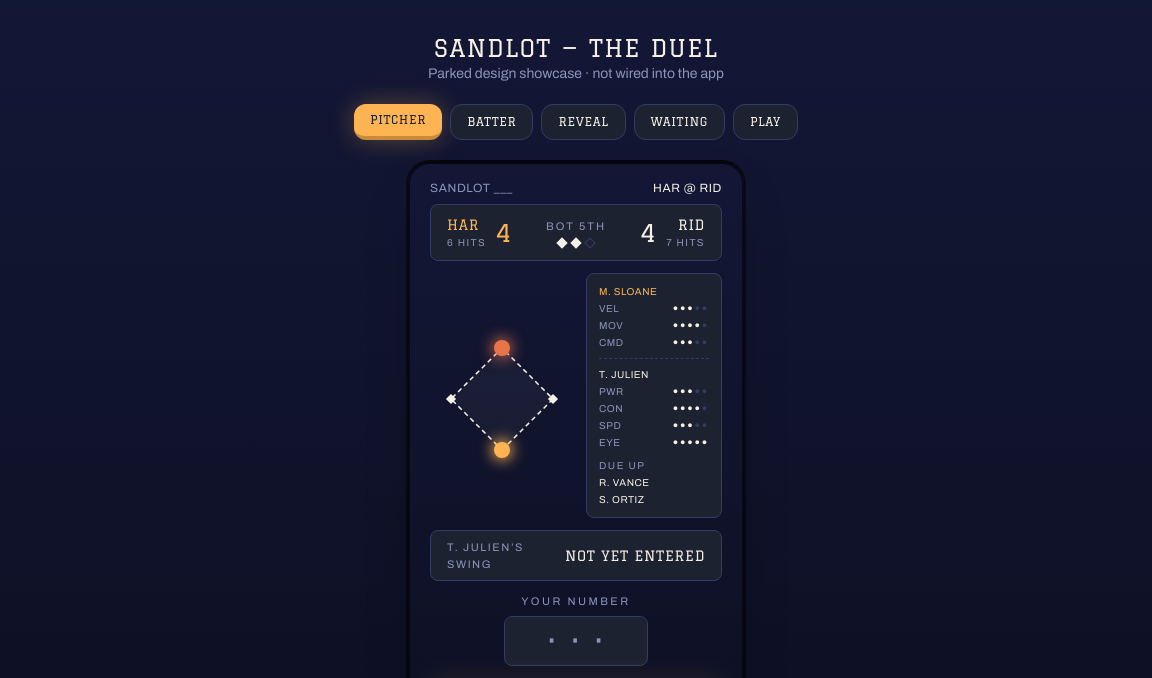
Test: DesignShowcase › shows both numbers, the outcome, and the situational callout on the reveal
What coordinates should you click on to do the following:
click the button "REVEAL"
I would click on:
 (584, 122)
Its box is [542,104,626,140].
(page scrolled)
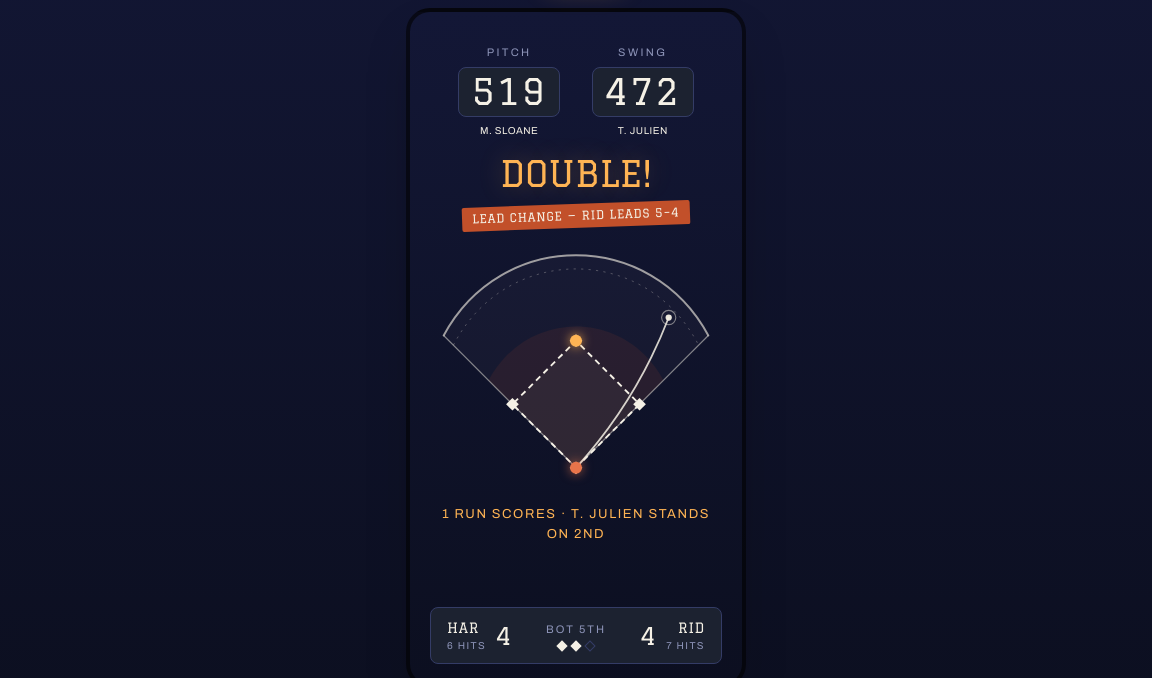
Check: the text "519" is shown, box [458,66,560,116]
Check: the text "472" is shown, box [592,66,694,116]
Check: the text "LEAD CHANGE — RID LEADS 5–4" is shown, box [462,200,690,231]
